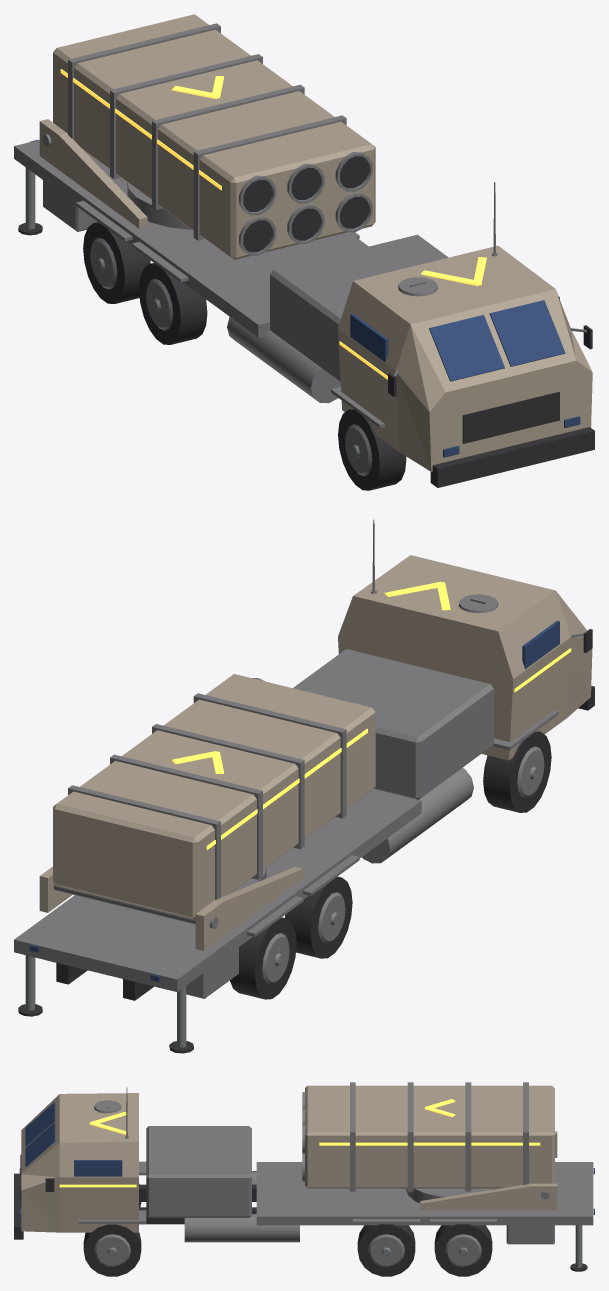
File: mlrs_red.glb
The picture shows the model from 3 angles, top to bottom: view 1: azimuth 30°, elevation 25°; view 2: azimuth 150°, elevation 25°; view 3: azimuth 270°, elevation 25°; orthographic projection. The views are drawn at different scales.
Visible parts, largest first — view 1: body, gun, turret; view 2: body, gun, turret; view 3: body, gun, turret.
Boxes of the visible parts, bbox=[...] form: body: bbox=[14, 139, 594, 490]; gun: bbox=[53, 14, 375, 259]; turret: bbox=[39, 119, 191, 229]; body: bbox=[14, 519, 594, 1053]; gun: bbox=[53, 674, 375, 919]; turret: bbox=[39, 866, 303, 950]; body: bbox=[14, 1087, 594, 1276]; gun: bbox=[302, 1082, 554, 1191]; turret: bbox=[406, 1131, 557, 1210].
Bounding box in the file's own units: 3.28 × 4.14 × 12.09.
